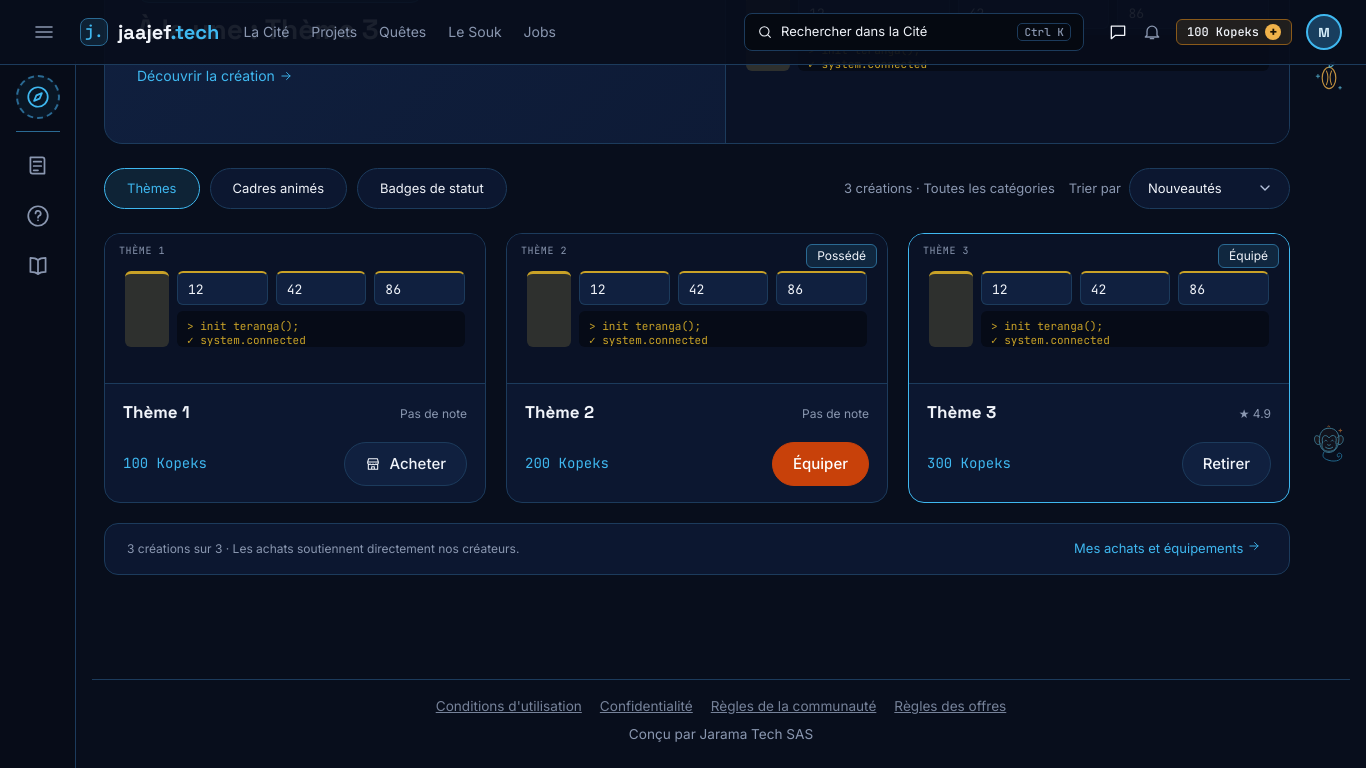
it: Souk page › buys an item, then refreshes the list and the Kopeks balance
(page scrolled)
Click the button with aria-label "Acheter Thème 1".
click(406, 464)  # box [344,442,467,486]
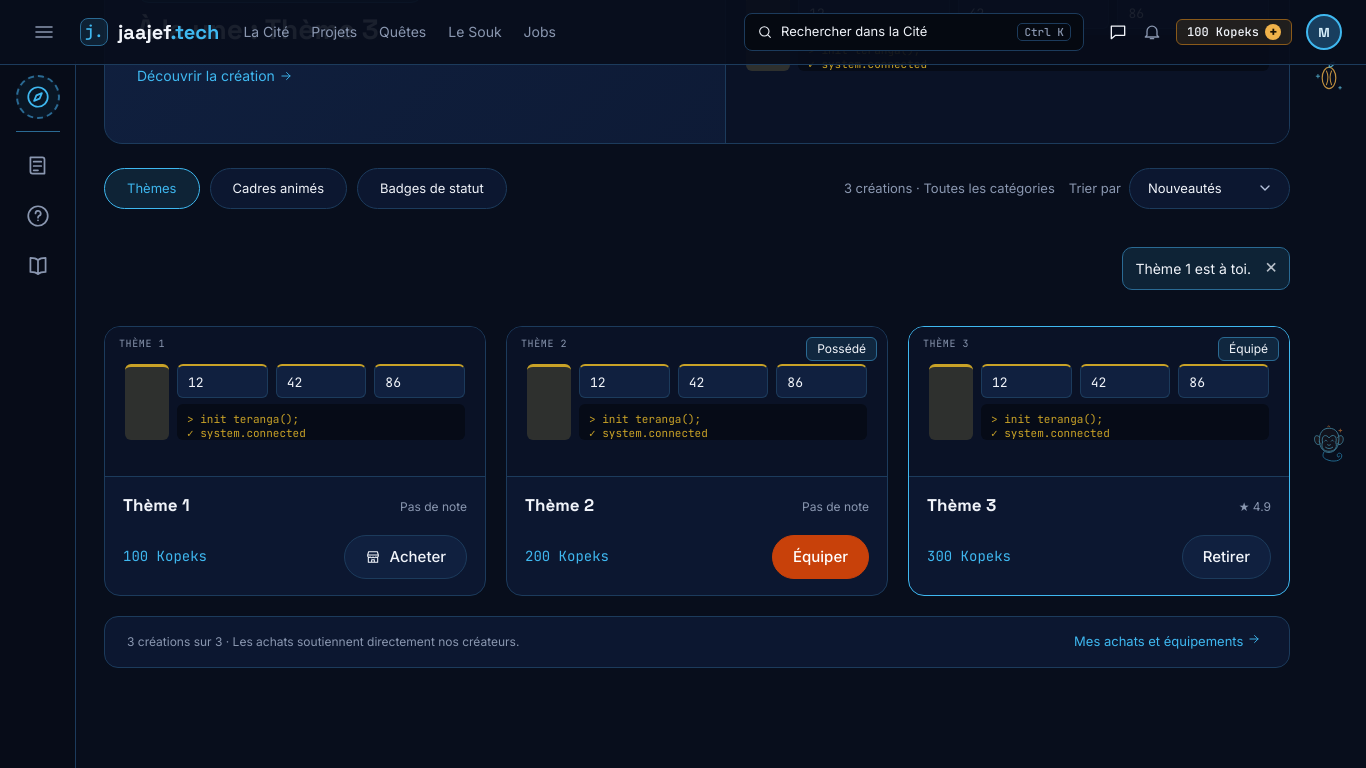
Check: the text "Thème 1 est à toi." is shown, box [1122,247,1290,290]
